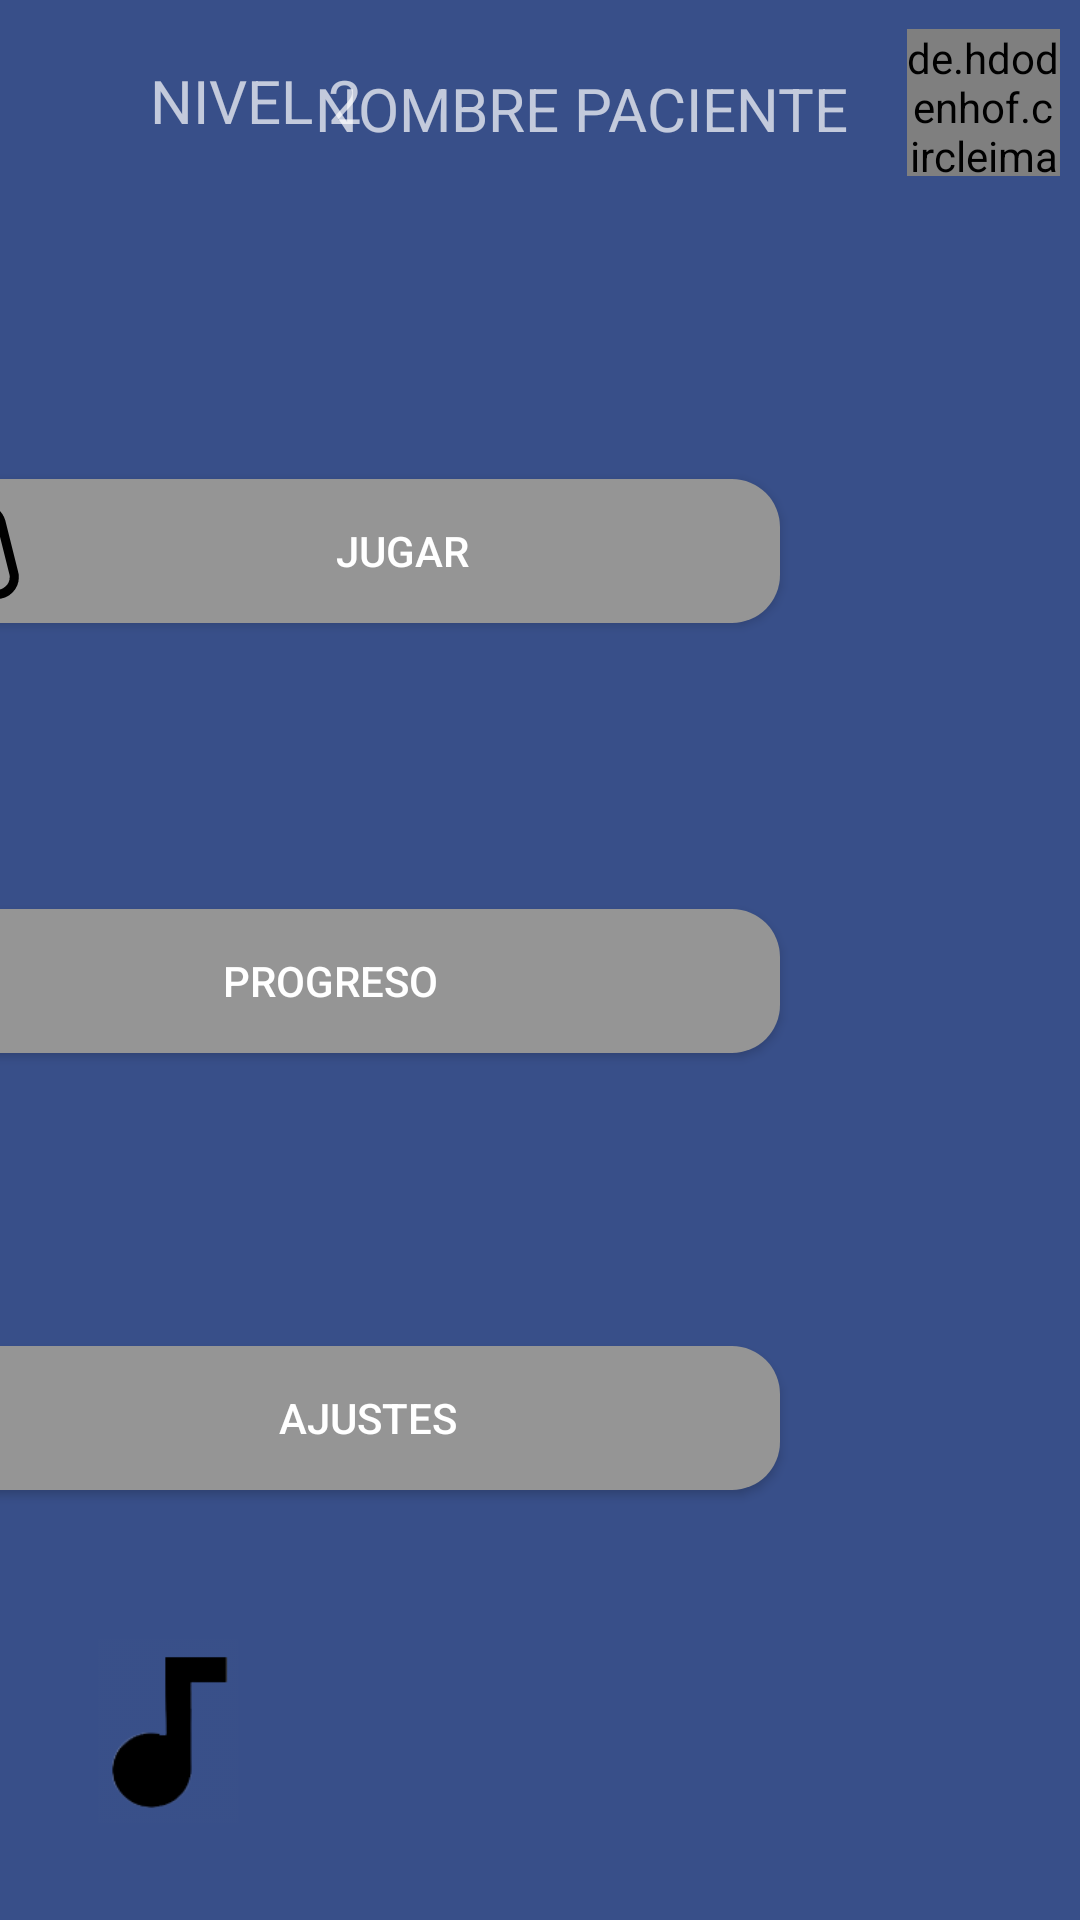

Icons on this 1080px×1920px Android screen, each with its box as Rect(x1, y1, x2, y2):
nomute: Rect(112, 1657, 227, 1808)
